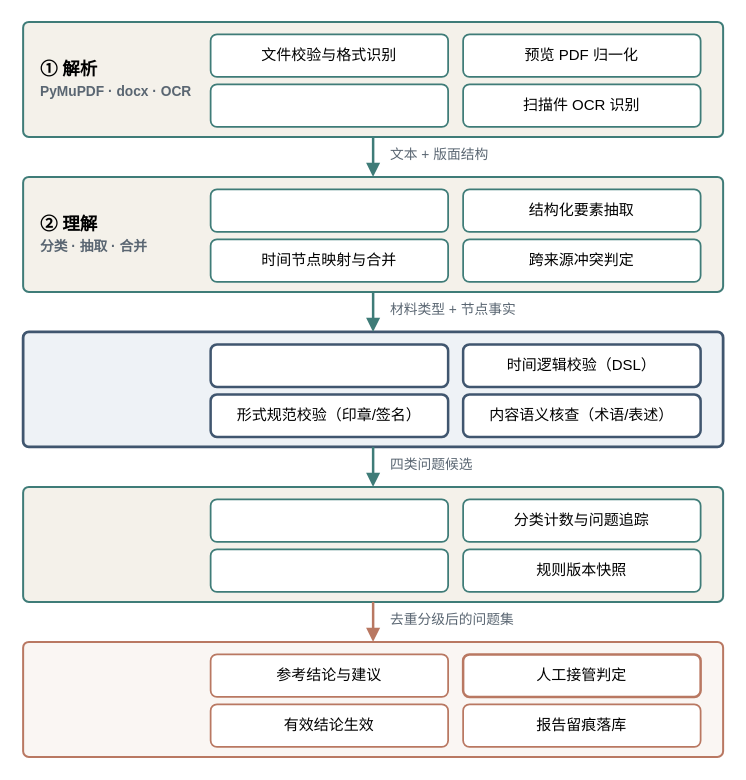
The diagram is 746 pixels wide and 780 high, and some of its shapes have lost their labels. Here are the shapes that lost their labels. From the top down, the box of each, then its label:
(209, 83, 448, 127): 文本层提取
(209, 188, 448, 232): 材料分类与置信度
(209, 342, 449, 388): 完整性校验（清单比对）
(21, 330, 724, 448): ③ 校验 规则引擎 + 大模型
(209, 498, 448, 542): 问题指纹去重与分级
(22, 485, 724, 602): ④ 汇总 分级 · 建议 · 版本
(209, 548, 448, 592): 修改建议模板填充
(22, 640, 724, 757): ⑤ 结论 建议与人工接管
